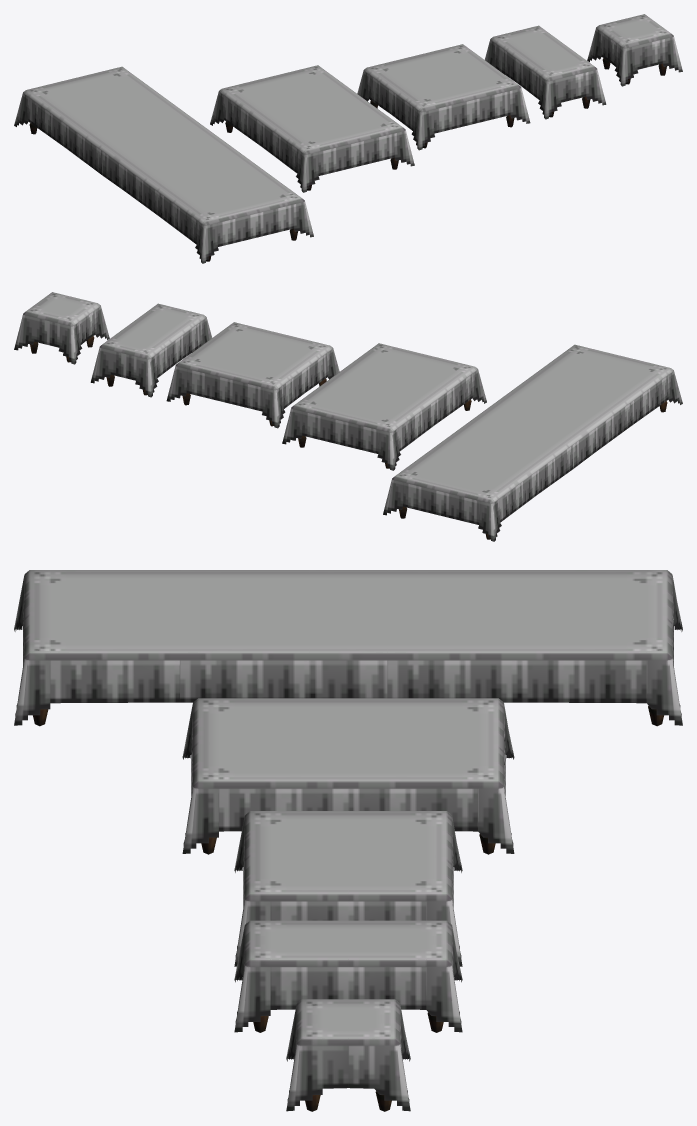
File: EnvObjMD_Table_Luxury_A_S.FBX
3 views of the same model, one above another, from view 1: azimuth 30°, elevation 25°; view 2: azimuth 150°, elevation 25°; view 3: azimuth 270°, elevation 25° (orthographic). The views are drawn at different scales.
Parts seen in each view (by area): view 1: EnvObjMD_Table_Luxury_A_LL_6W2D, EnvObjMD_Table_Luxury_A_L, EnvObjMD_Table_Luxury_A_M, EnvObjMD_Table_Luxury_A_S, EnvObjMD_Table_Luxury_A_XS; view 2: EnvObjMD_Table_Luxury_A_LL_6W2D, EnvObjMD_Table_Luxury_A_L, EnvObjMD_Table_Luxury_A_M, EnvObjMD_Table_Luxury_A_S, EnvObjMD_Table_Luxury_A_XS; view 3: EnvObjMD_Table_Luxury_A_LL_6W2D, EnvObjMD_Table_Luxury_A_L, EnvObjMD_Table_Luxury_A_M, EnvObjMD_Table_Luxury_A_S, EnvObjMD_Table_Luxury_A_XS.
Part boxes in pixels (x1=…): EnvObjMD_Table_Luxury_A_LL_6W2D: x1=14, y1=66, x2=313, y2=263; EnvObjMD_Table_Luxury_A_L: x1=210, y1=65, x2=414, y2=192; EnvObjMD_Table_Luxury_A_M: x1=357, y1=44, x2=530, y2=150; EnvObjMD_Table_Luxury_A_S: x1=484, y1=25, x2=606, y2=119; EnvObjMD_Table_Luxury_A_XS: x1=587, y1=14, x2=682, y2=86; EnvObjMD_Table_Luxury_A_LL_6W2D: x1=383, y1=344, x2=682, y2=541; EnvObjMD_Table_Luxury_A_L: x1=282, y1=343, x2=486, y2=470; EnvObjMD_Table_Luxury_A_M: x1=166, y1=322, x2=339, y2=428; EnvObjMD_Table_Luxury_A_S: x1=90, y1=303, x2=212, y2=397; EnvObjMD_Table_Luxury_A_XS: x1=14, y1=292, x2=109, y2=364; EnvObjMD_Table_Luxury_A_LL_6W2D: x1=14, y1=570, x2=682, y2=726; EnvObjMD_Table_Luxury_A_L: x1=182, y1=698, x2=514, y2=854; EnvObjMD_Table_Luxury_A_M: x1=234, y1=811, x2=462, y2=966; EnvObjMD_Table_Luxury_A_S: x1=234, y1=920, x2=462, y2=1032; EnvObjMD_Table_Luxury_A_XS: x1=286, y1=999, x2=410, y2=1111.
Size of the model in its own units: 1100 by 80 by 645.
